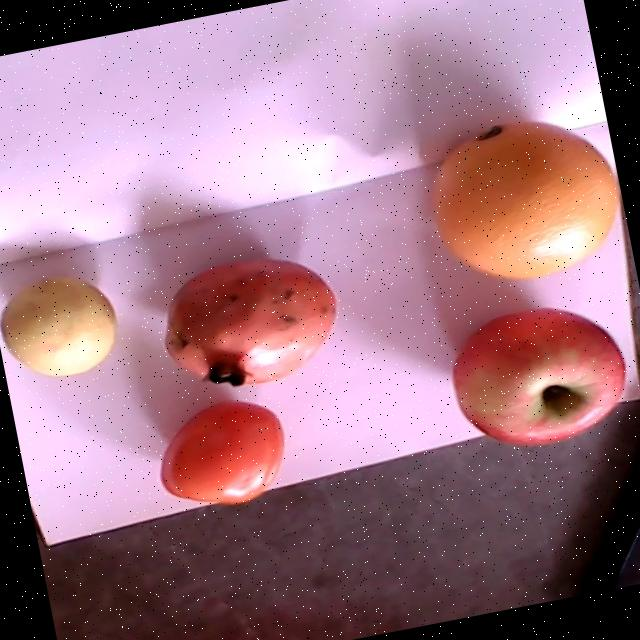apple: (454, 308, 626, 446)
lemon: (2, 277, 115, 377)
orange: (430, 122, 617, 279)
pomegranate: (165, 259, 335, 387)
tomato: (160, 401, 282, 506)
